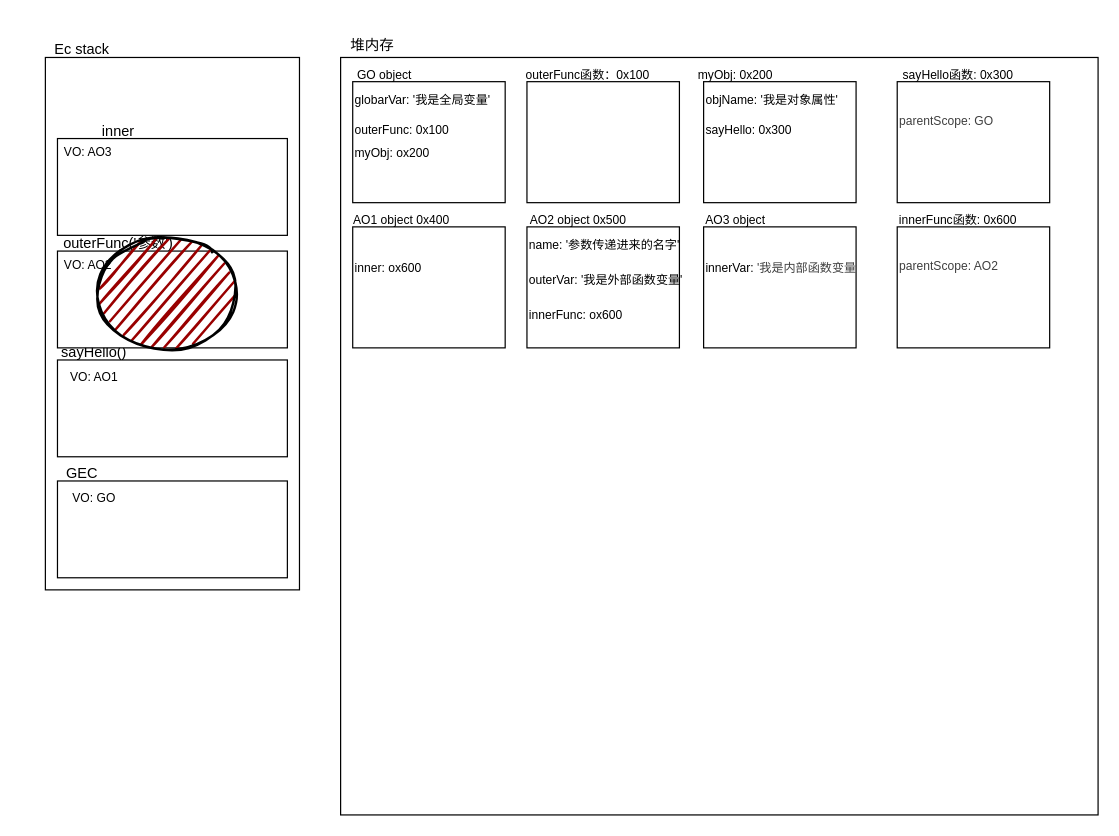
Some shapes in this 1119 by 836 pixel diagram are drawn without their labels. Each missing label, with the box of its shape:
chain: AO1 + GO 执行代码： const inner = ox600 inner(): (56, 359, 287, 457)
chain: AO2 + AO1 执行代码： return ox600: (56, 250, 287, 348)
chain: AO3 + AO2 执行代码： console.log: (56, 137, 287, 235)
执行代码： myObj.sayHello(): (56, 480, 287, 578)
